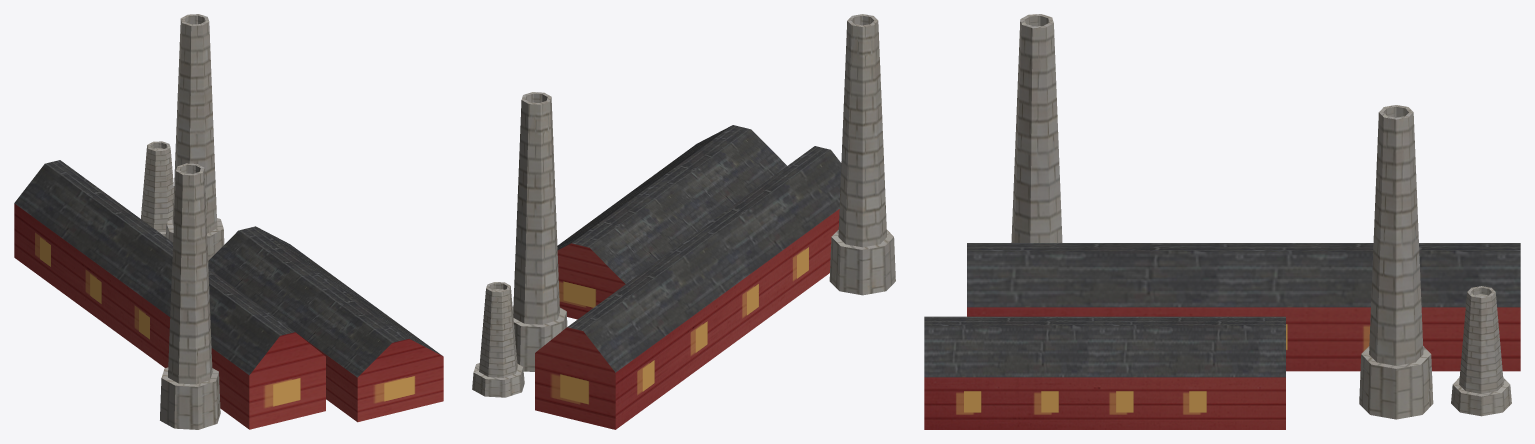
Rendered from factory.fbx.
3 renders of one model, left to right at view 1: azimuth 30°, elevation 25°; view 2: azimuth 150°, elevation 25°; view 3: azimuth 270°, elevation 25°, orthographic. The views are drawn at different scales.
Visible parts, largest first — view 1: polySurface1; view 2: polySurface1; view 3: polySurface1.
Part boxes in pixels (x1,y1,x2,y2): polySurface1: (14,14,443,429); polySurface1: (472,14,895,429); polySurface1: (924,14,1520,429).
Bounding box in the file's own units: 466 × 882 × 478.
